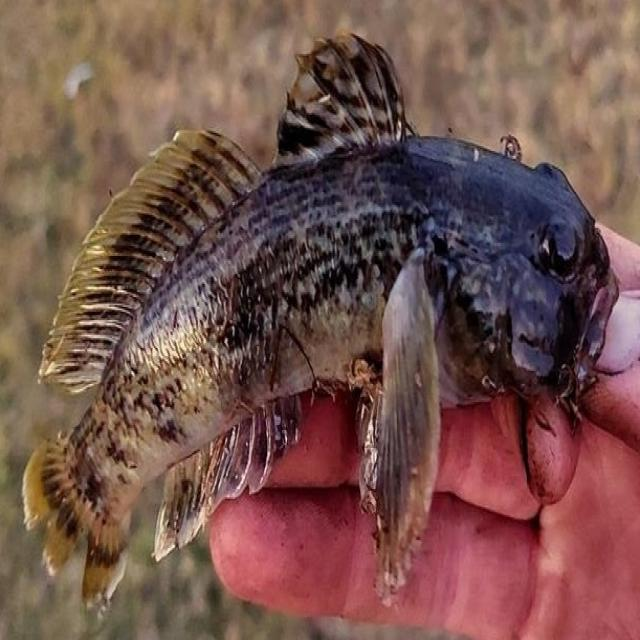Goby: (0, 33, 640, 628)
